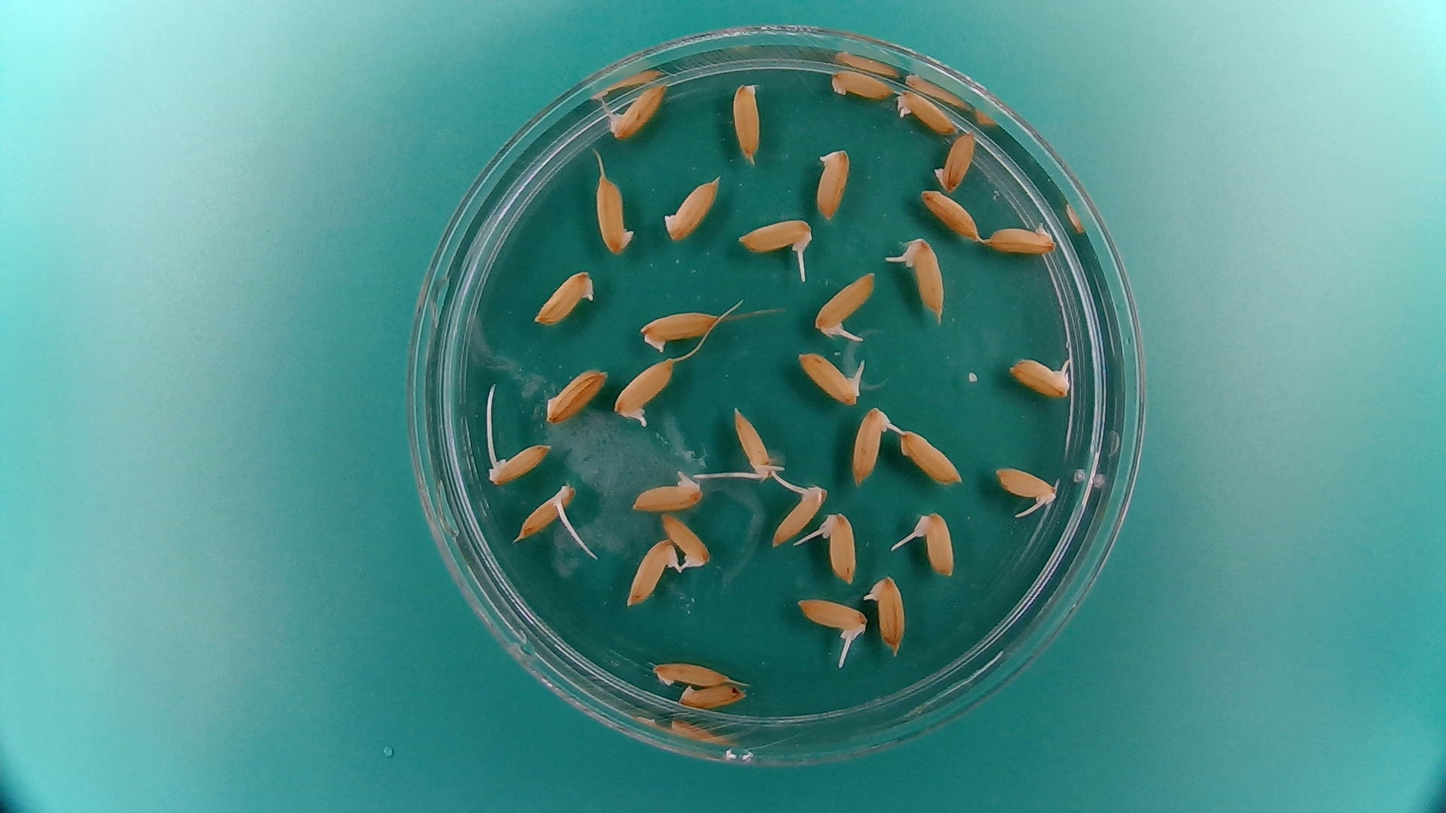no: (633, 304, 723, 356), (660, 172, 724, 243), (539, 364, 609, 426), (531, 265, 599, 328), (898, 425, 964, 489), (593, 165, 636, 256), (917, 187, 983, 242), (811, 142, 854, 221), (893, 89, 962, 136), (728, 78, 764, 163), (648, 656, 740, 689), (932, 128, 978, 193), (986, 221, 1058, 257), (827, 66, 897, 102), (676, 680, 749, 712)
yes: (812, 266, 880, 342), (609, 356, 680, 426), (890, 235, 945, 318), (621, 537, 681, 611), (768, 477, 829, 549), (733, 214, 817, 265), (794, 348, 865, 408), (513, 480, 581, 542), (849, 403, 897, 488), (861, 572, 910, 655), (605, 80, 671, 141), (731, 404, 782, 482), (905, 506, 959, 579), (992, 464, 1060, 516), (1006, 349, 1075, 400), (797, 594, 870, 641), (815, 507, 859, 584), (484, 438, 554, 486), (628, 470, 705, 513), (660, 511, 713, 571)
